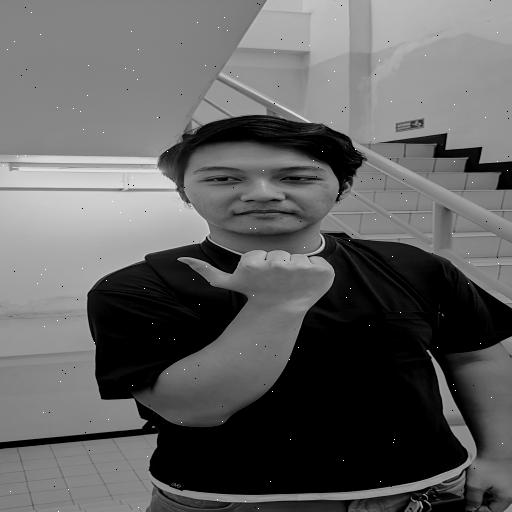back: (160, 236, 364, 315)
